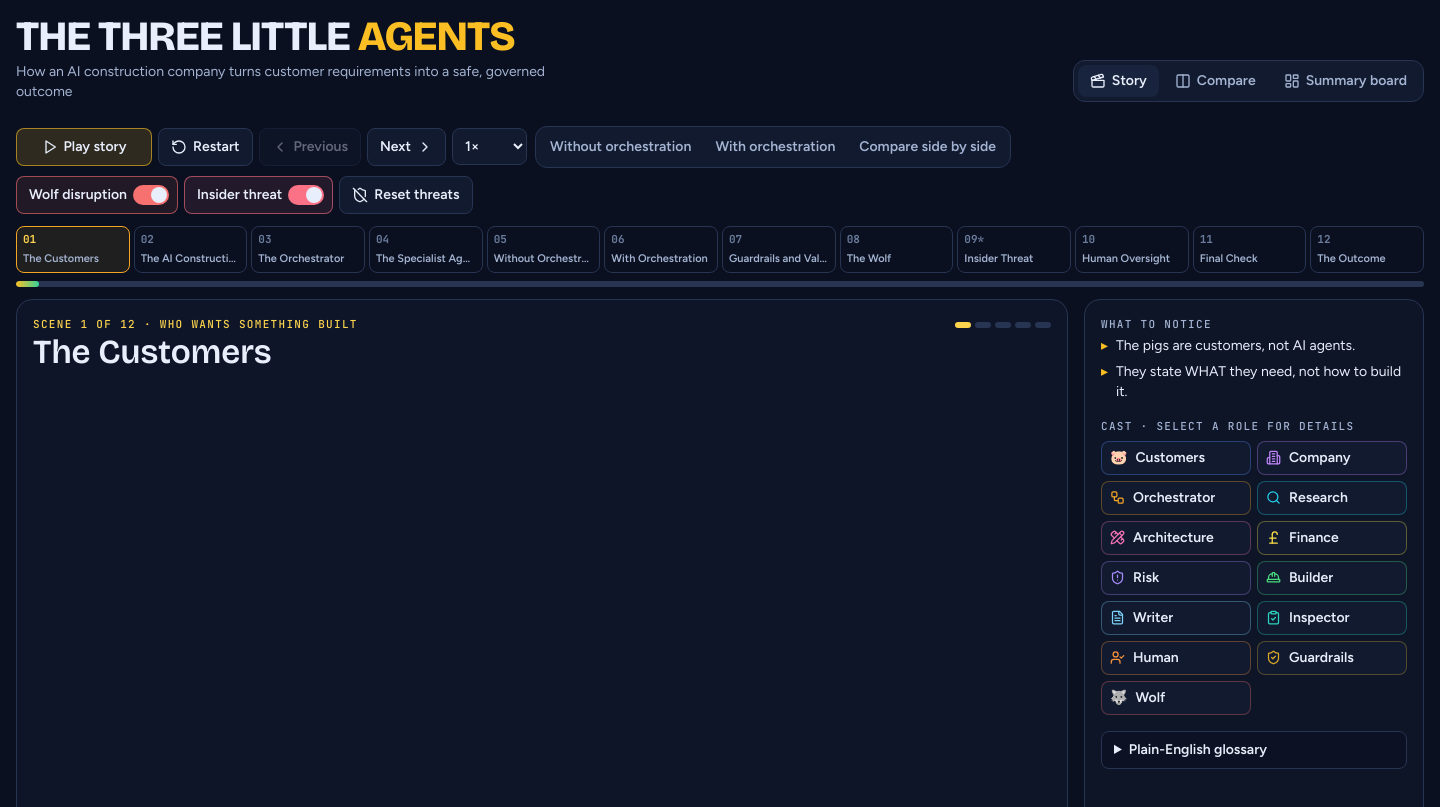
Test case: App controls › Pause freezes the story
Click the button "Play story".
click(84, 147)  # box top-left (16, 128), bottom-right (152, 166)
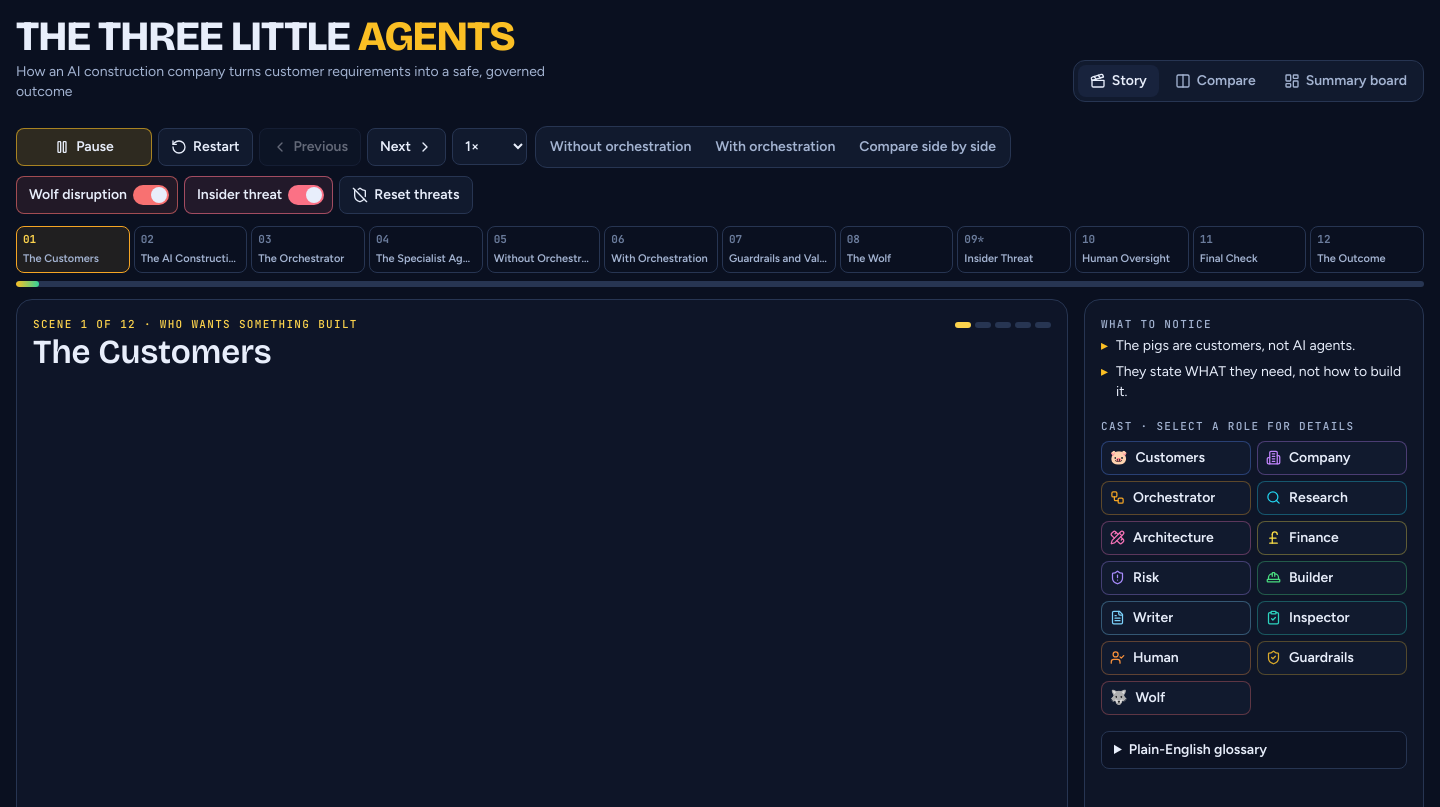
Click the button "Pause".
click(84, 147)  # box top-left (16, 128), bottom-right (152, 166)
Wait 60000 ms
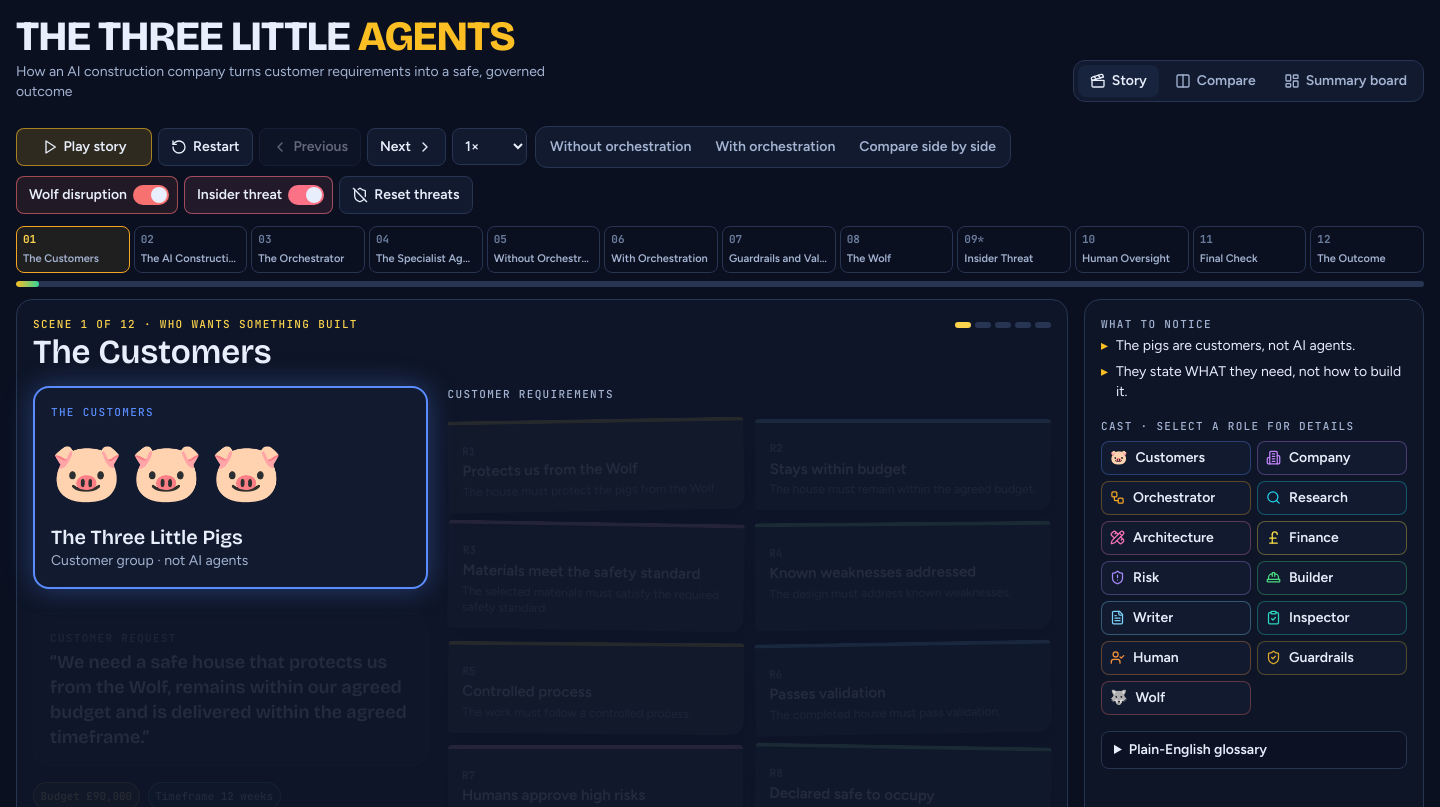
Expected: the text "The Customers" is shown, top-left (23, 252), bottom-right (99, 265)
Expected: the button "Play story" is shown, top-left (16, 128), bottom-right (152, 166)
